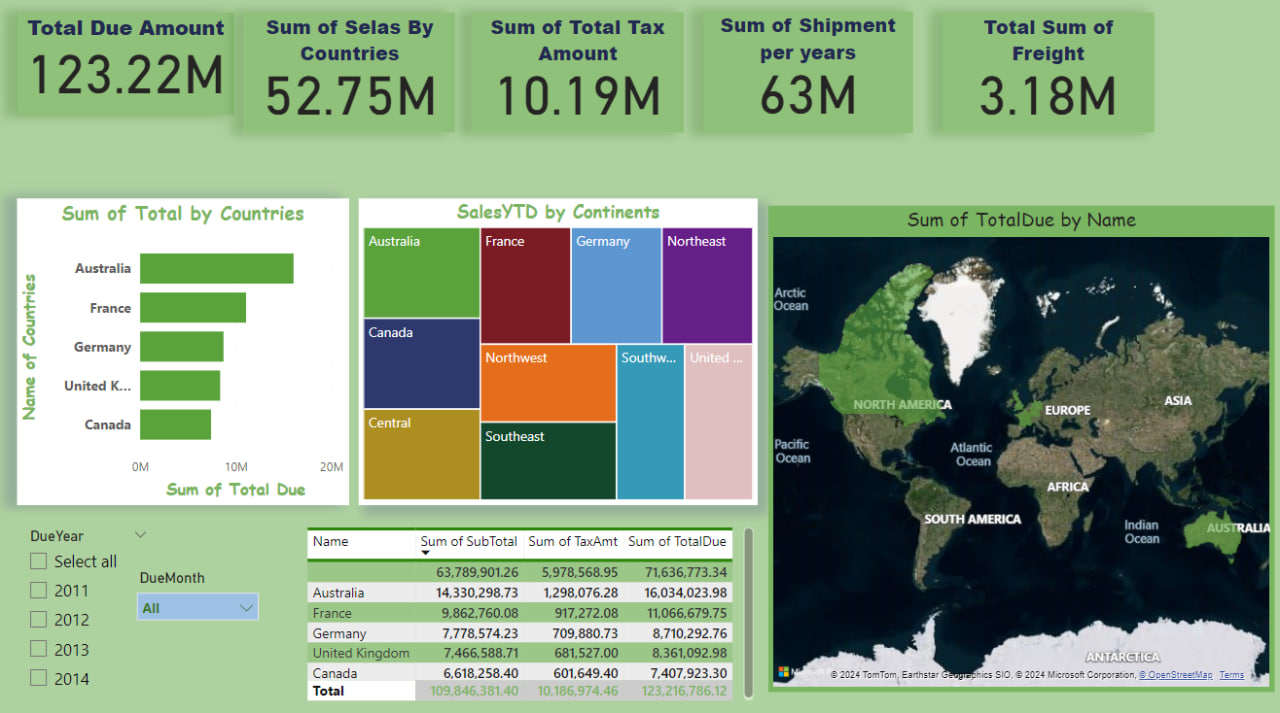

This screenshot's page, from the dashboard's own definition file:
{"tool":"powerbi","page":{"name":"BackGrInfo","canvas":[1280,720],"ordinal":0},"visuals":[{"type":"card","title":"Total Due Amount","fields":{"Values":["Sum(SalesOrderAnalysis.TotalDue)"]},"box":[22.1,19.5,215.6,101.3],"z":0},{"type":"card","title":"Sum of Selas By Countries","fields":{"Values":["Sum(TerritorySalesData.SalesYTD)"]},"box":[246.8,19.5,209.1,119.5],"z":1000},{"type":"card","title":"Sum of Total Tax Amount","fields":{"Values":["Sum(SalesOrderAnalysis.TaxAmt)"]},"box":[472.7,19.5,210.4,119.5],"z":2000},{"type":"card","title":"Sum of Shipment per years","fields":{"Values":["Sum(SalesOrderAnalysis.ShipYear)"]},"box":[702.6,18.2,209.1,120.8],"z":3000},{"type":"card","title":"Total Sum of Freight","fields":{"Values":["Sum(SalesOrderAnalysis.Freight)"]},"box":[940.3,19.5,210.4,119.5],"z":4000},{"type":"clusteredBarChart","title":"Sum of Total by Countries","fields":{"Category":["TerritorySalesData.Name"],"Y":["Sum(SalesOrderAnalysis.TotalDue)"]},"box":[22,203.7,329.3,304.9],"z":5000},{"type":"treemap","title":"SalesYTD by Continents","fields":{"Group":["TerritorySalesData.Name"],"Values":["CountNonNull(TerritorySalesData.SalesYTD)"]},"box":[361,203.7,396.3,304.9],"z":6000},{"type":"filledMap","fields":{"Category":["TerritorySalesData.Name"]},"box":[767.1,211,502.4,482.9],"z":7000},{"type":"slicer","fields":{"Values":["SalesOrderAnalysis.DueYear"]},"box":[22.1,526,141.6,181.8],"z":8000},{"type":"slicer","fields":{"Values":["SalesOrderAnalysis.DueMonth"]},"box":[129.9,567.5,141.6,79.2],"z":9000},{"type":"pivotTable","fields":{"Values":["Sum(SalesOrderAnalysis.SubTotal)","Sum(SalesOrderAnalysis.TaxAmt)","Sum(SalesOrderAnalysis.TotalDue)"],"Rows":["TerritorySalesData.Name"]},"box":[305.2,526,451.9,181.8],"z":10000}]}

Visuals, with their boxes in screenshot pixels (x1, y1, x2, y2), scaled from the page's 1280x720 canvas onto the 1280x713 screenshot:
"Total Due Amount" card: <bbox>22, 19, 238, 120</bbox>
"Sum of Selas By Countries" card: <bbox>247, 19, 456, 138</bbox>
"Sum of Total Tax Amount" card: <bbox>473, 19, 683, 138</bbox>
"Sum of Shipment per years" card: <bbox>703, 18, 912, 138</bbox>
"Total Sum of Freight" card: <bbox>940, 19, 1151, 138</bbox>
"Sum of Total by Countries" clusteredBarChart: <bbox>22, 202, 351, 504</bbox>
"SalesYTD by Continents" treemap: <bbox>361, 202, 757, 504</bbox>
filledMap - TerritorySalesData.Name: <bbox>767, 209, 1270, 687</bbox>
slicer - SalesOrderAnalysis.DueYear: <bbox>22, 521, 164, 701</bbox>
slicer - SalesOrderAnalysis.DueMonth: <bbox>130, 562, 272, 640</bbox>
pivotTable - Sum(SalesOrderAnalysis.SubTotal) x Sum(SalesOrderAnalysis.TaxAmt): <bbox>305, 521, 757, 701</bbox>
